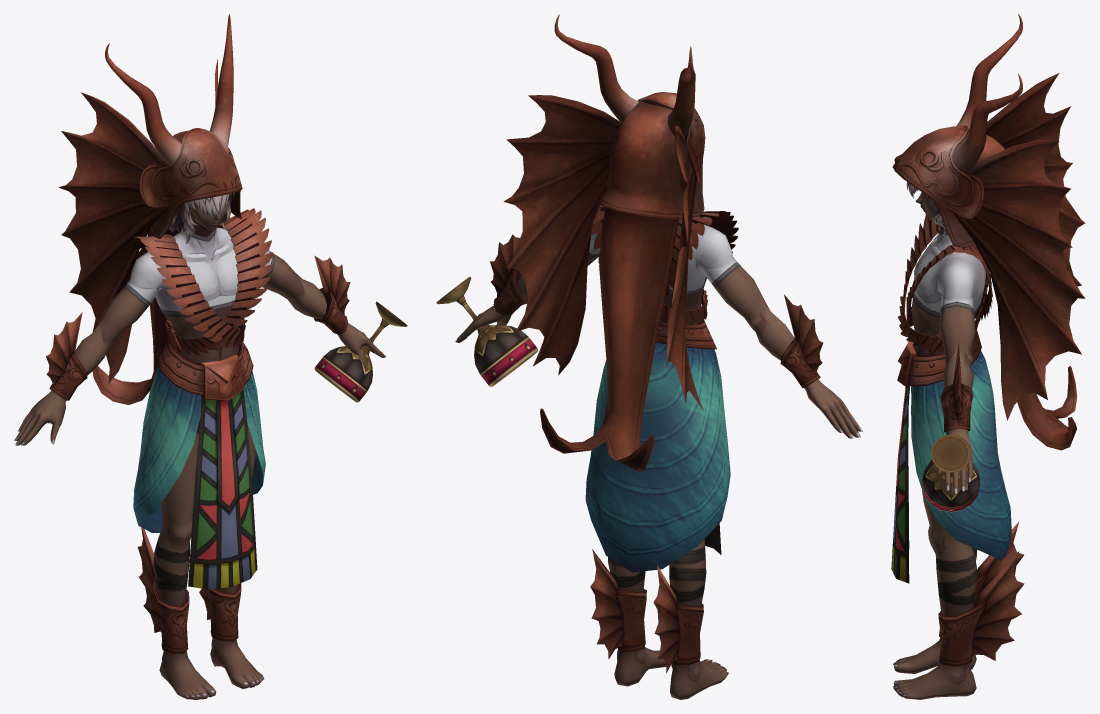
The model's file is Baal.obj.
3 renders of one model, left to right at view 1: azimuth 30°, elevation 25°; view 2: azimuth 150°, elevation 25°; view 3: azimuth 270°, elevation 25°, orthographic. The views are drawn at different scales.
Parts seen in each view (by area): view 1: SK_dev017.001_SK_dev017; view 2: SK_dev017.001_SK_dev017; view 3: SK_dev017.001_SK_dev017.
Boxes of the visible parts, box(x1,y1,x2,y2) form: SK_dev017.001_SK_dev017: box(14, 14, 407, 699); SK_dev017.001_SK_dev017: box(436, 14, 862, 699); SK_dev017.001_SK_dev017: box(891, 14, 1085, 699).
Bounding box in the file's own units: 1.49 × 2.28 × 0.6319.
